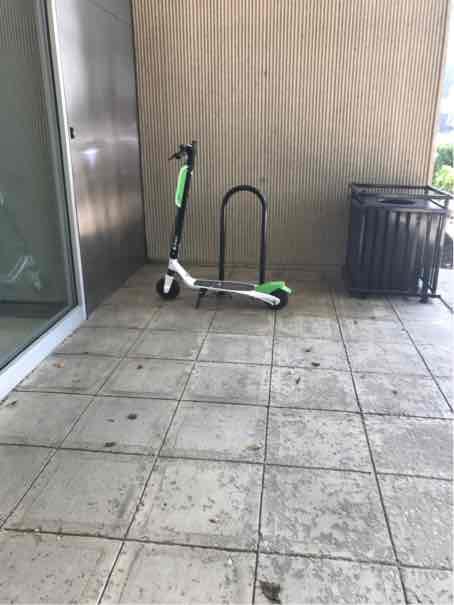scooter: (152, 133, 296, 317)
